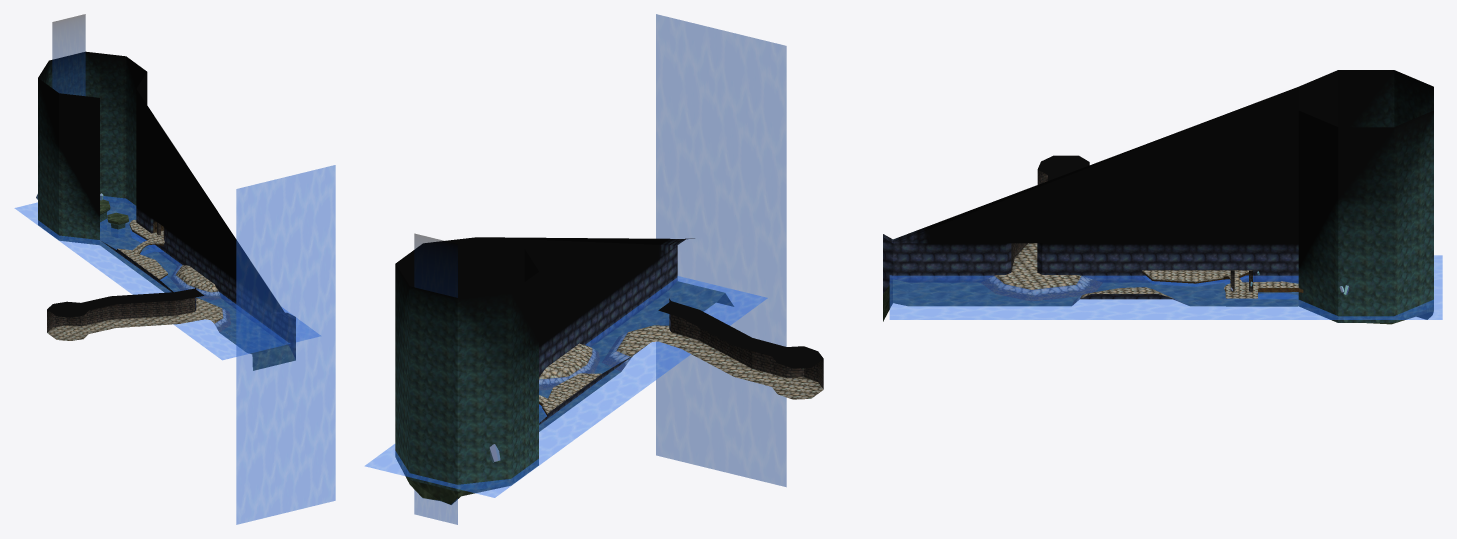
The model's file is metal_switch_all.glb.
3 renders of one model, left to right at view 1: azimuth 30°, elevation 25°; view 2: azimuth 150°, elevation 25°; view 3: azimuth 270°, elevation 25°, orthographic. The views are drawn at different scales.
Visible parts, largest first — view 1: metal_switch_all; view 2: metal_switch_all; view 3: metal_switch_all.
Part boxes in pixels (<box>): metal_switch_all: <box>14,14,335,524</box>; metal_switch_all: <box>365,14,823,524</box>; metal_switch_all: <box>883,70,1442,324</box>.
Bounding box in the file's own units: 6.14 × 9.68 × 11.6.
Materials: 11 (11 with a texture image).
